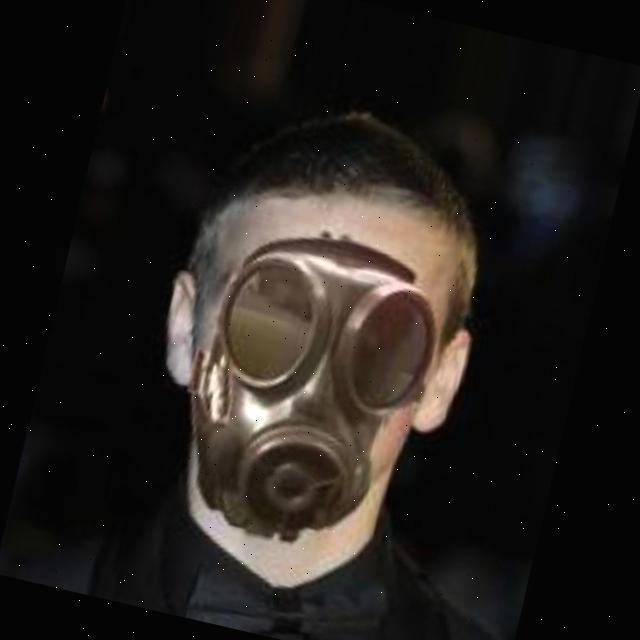suspicion: (117, 78, 537, 564)
